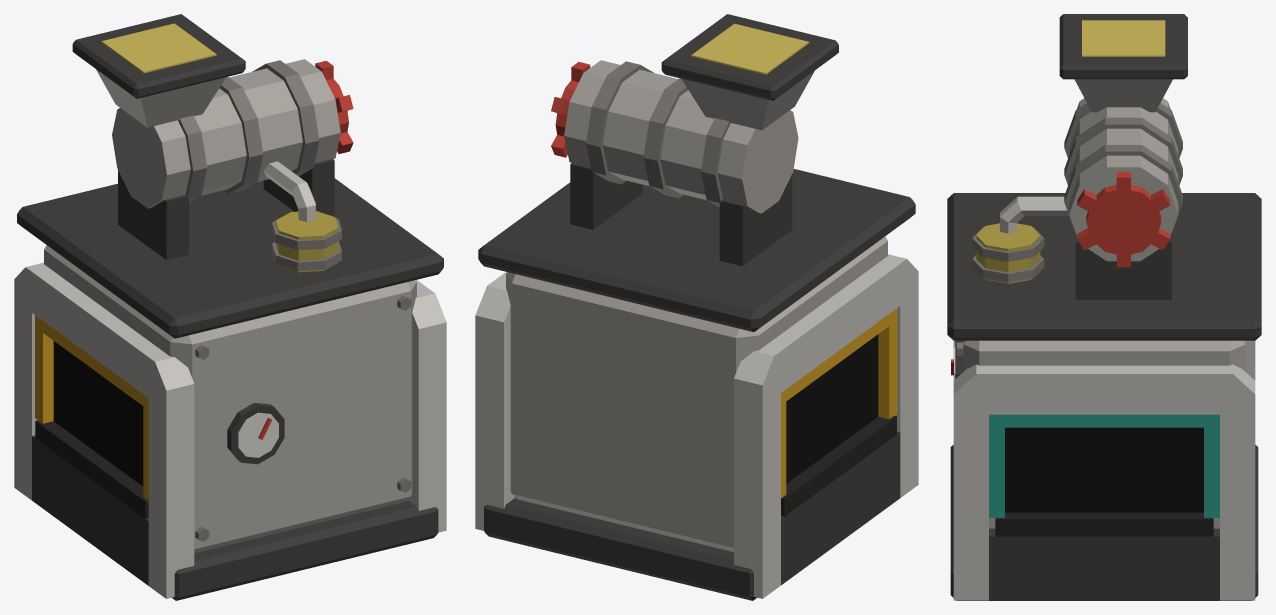
Rendered from oilpress.fbx.
3 renders of one model, left to right at view 1: azimuth 30°, elevation 25°; view 2: azimuth 150°, elevation 25°; view 3: azimuth 270°, elevation 25°, orthographic. The views are drawn at different scales.
Visible parts, largest first — view 1: oilpress; view 2: oilpress; view 3: oilpress.
Part boxes in pixels (bbox=[...]): oilpress: bbox=[14, 14, 446, 600]; oilpress: bbox=[475, 14, 918, 600]; oilpress: bbox=[947, 14, 1261, 600].
Bounding box in the file's own units: 3 × 4.86 × 2.94.
